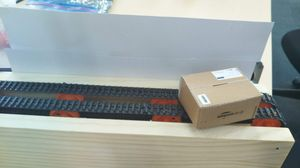box1: (177, 65, 261, 129)
